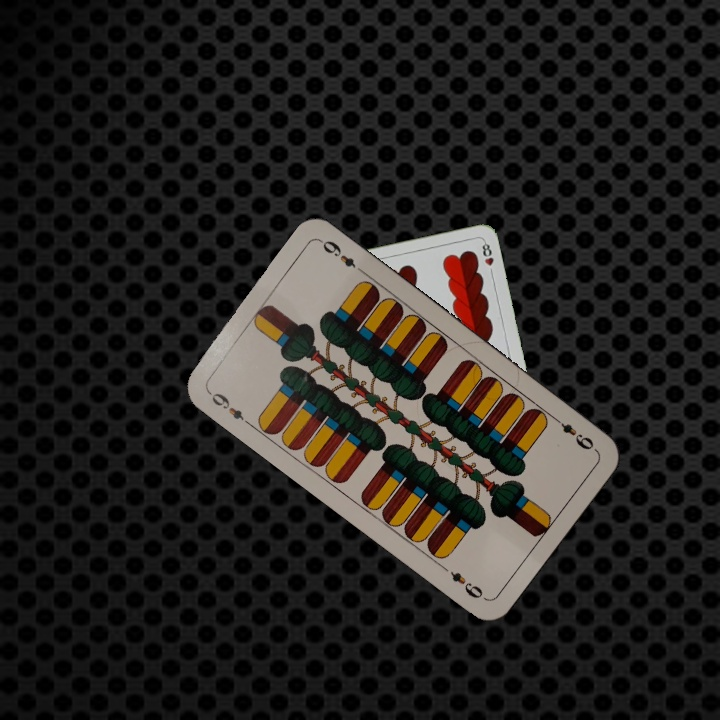E9: (204, 387, 254, 429), (548, 412, 597, 453)
